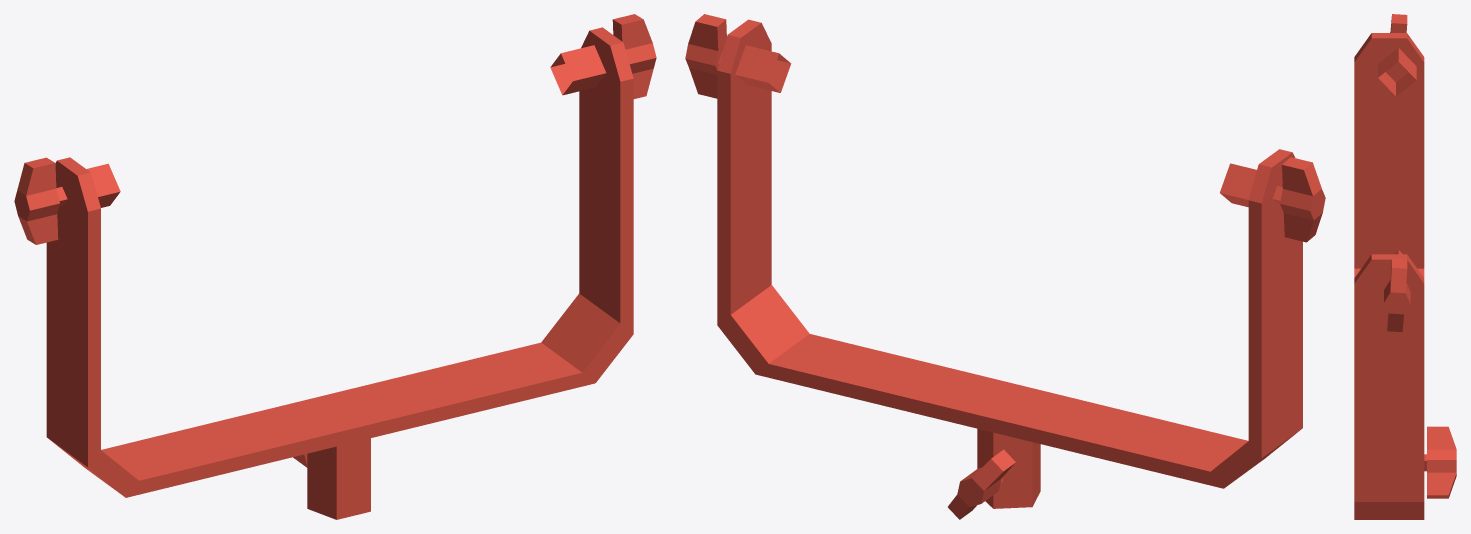
Rendered from SM_Light_Square_Big_Base.fbx.
3 renders of one model, left to right at view 1: azimuth 30°, elevation 25°; view 2: azimuth 150°, elevation 25°; view 3: azimuth 270°, elevation 25°, orthographic. The views are drawn at different scales.
Visible parts, largest first — view 1: SM_Light_Square_Big_Base; view 2: SM_Light_Square_Big_Base; view 3: SM_Light_Square_Big_Base.
Part boxes in pixels (left/top/right/bottom): SM_Light_Square_Big_Base: left=14, top=14, right=656, bottom=519; SM_Light_Square_Big_Base: left=685, top=14, right=1325, bottom=519; SM_Light_Square_Big_Base: left=1354, top=14, right=1456, bottom=519.
Bounding box in the file's own units: 7.83 × 47.04 × 29.59.
